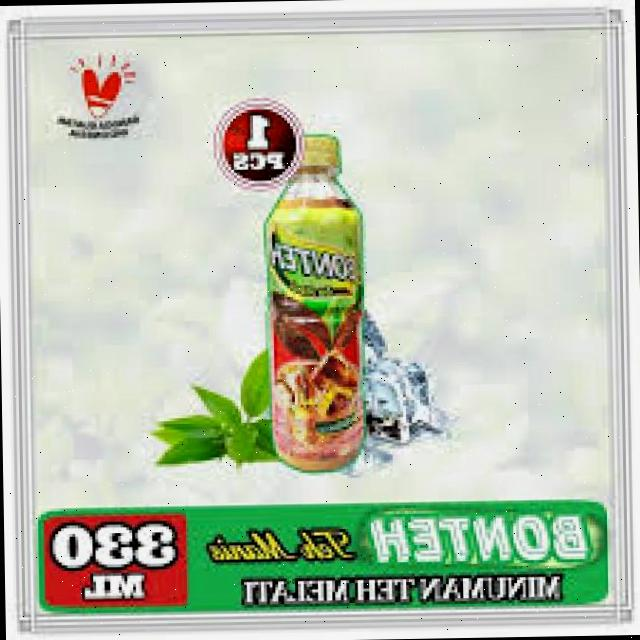bottle: (248, 126, 369, 476)
cap: (292, 134, 339, 168)
